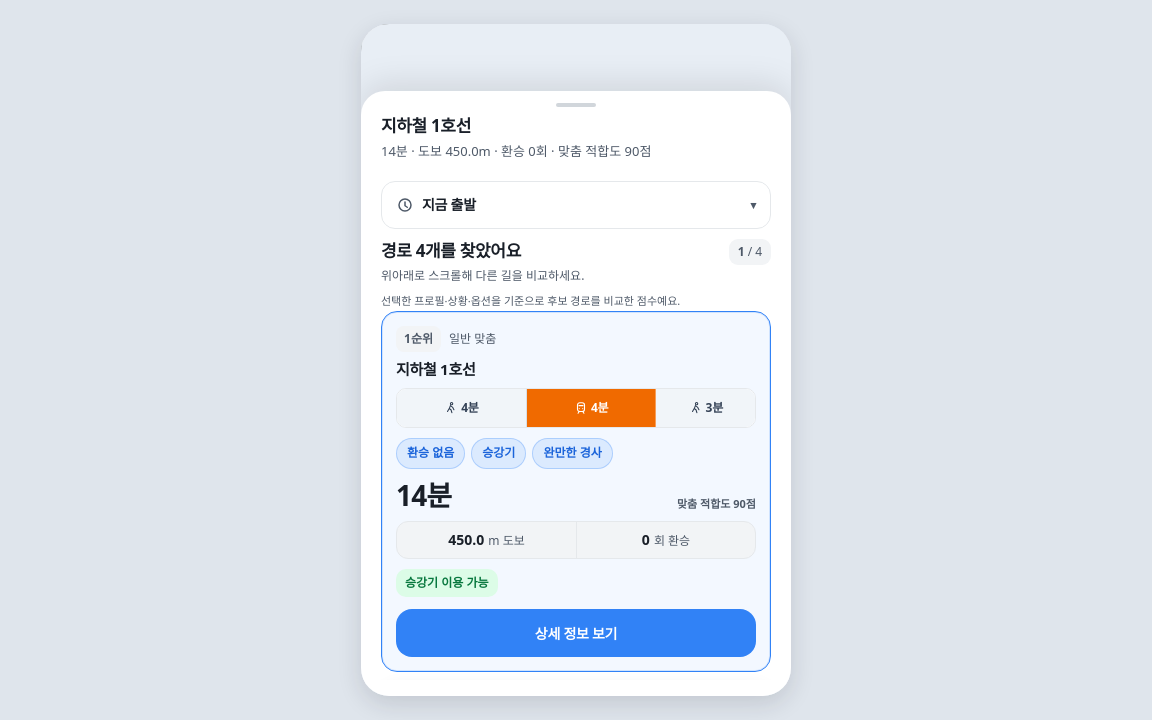
it: 프로덕션 v2 지도 중심 UI › 상세 정보 버튼에서 시작한 터치는 경로 시트 drag로 가로채지 않는다
Press the mouse on the button "상세 정보 보기" at (576, 633), box [396, 609, 756, 657]
Click the button "상세 정보 보기" at (576, 633), box [396, 609, 756, 657]
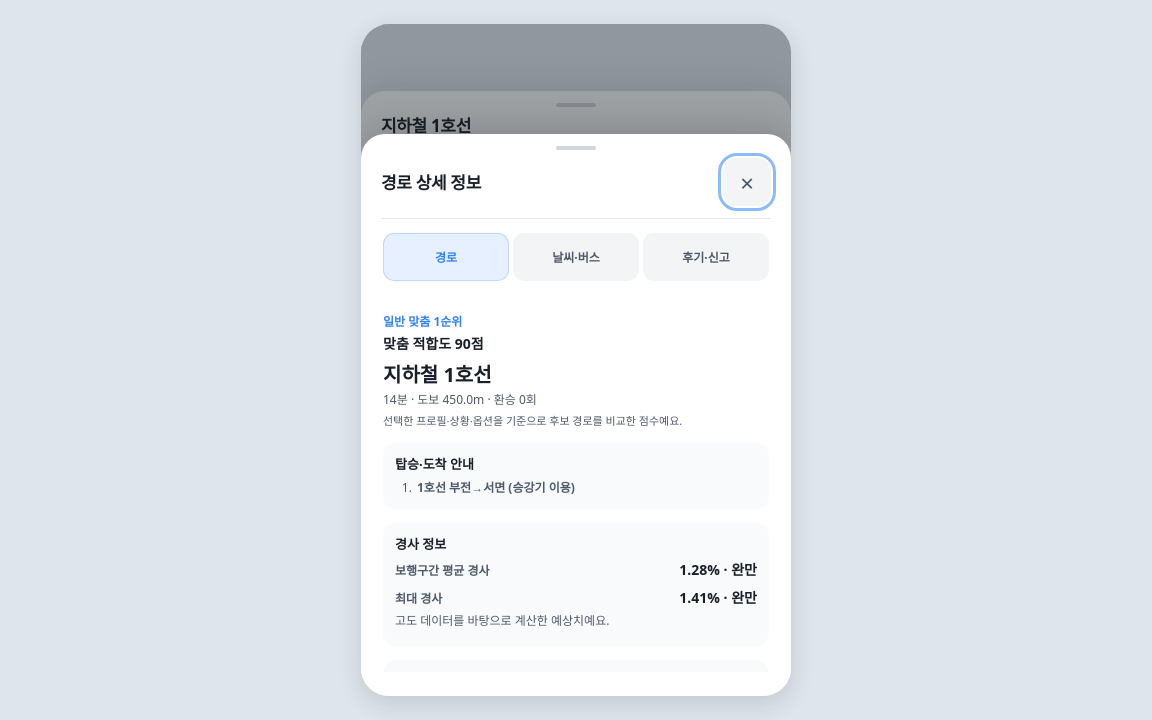
Check: the dialog "경로 상세 정보" is shown, box [361, 134, 791, 696]
